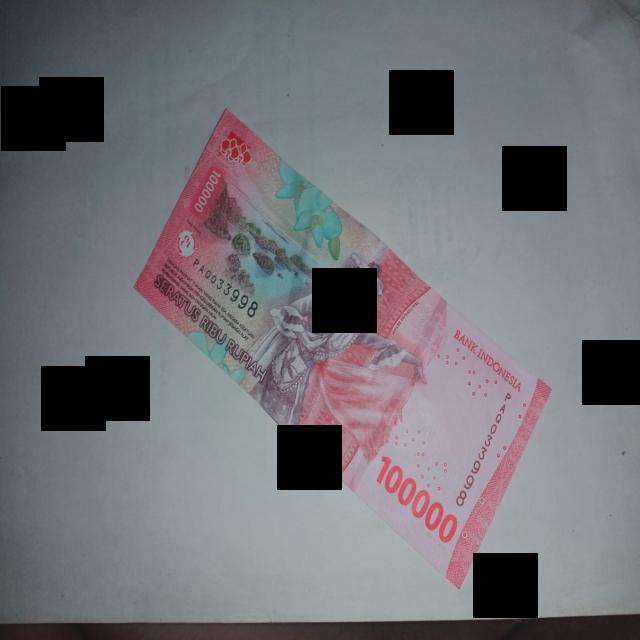seratusribu rupiah: (135, 110, 550, 587)
